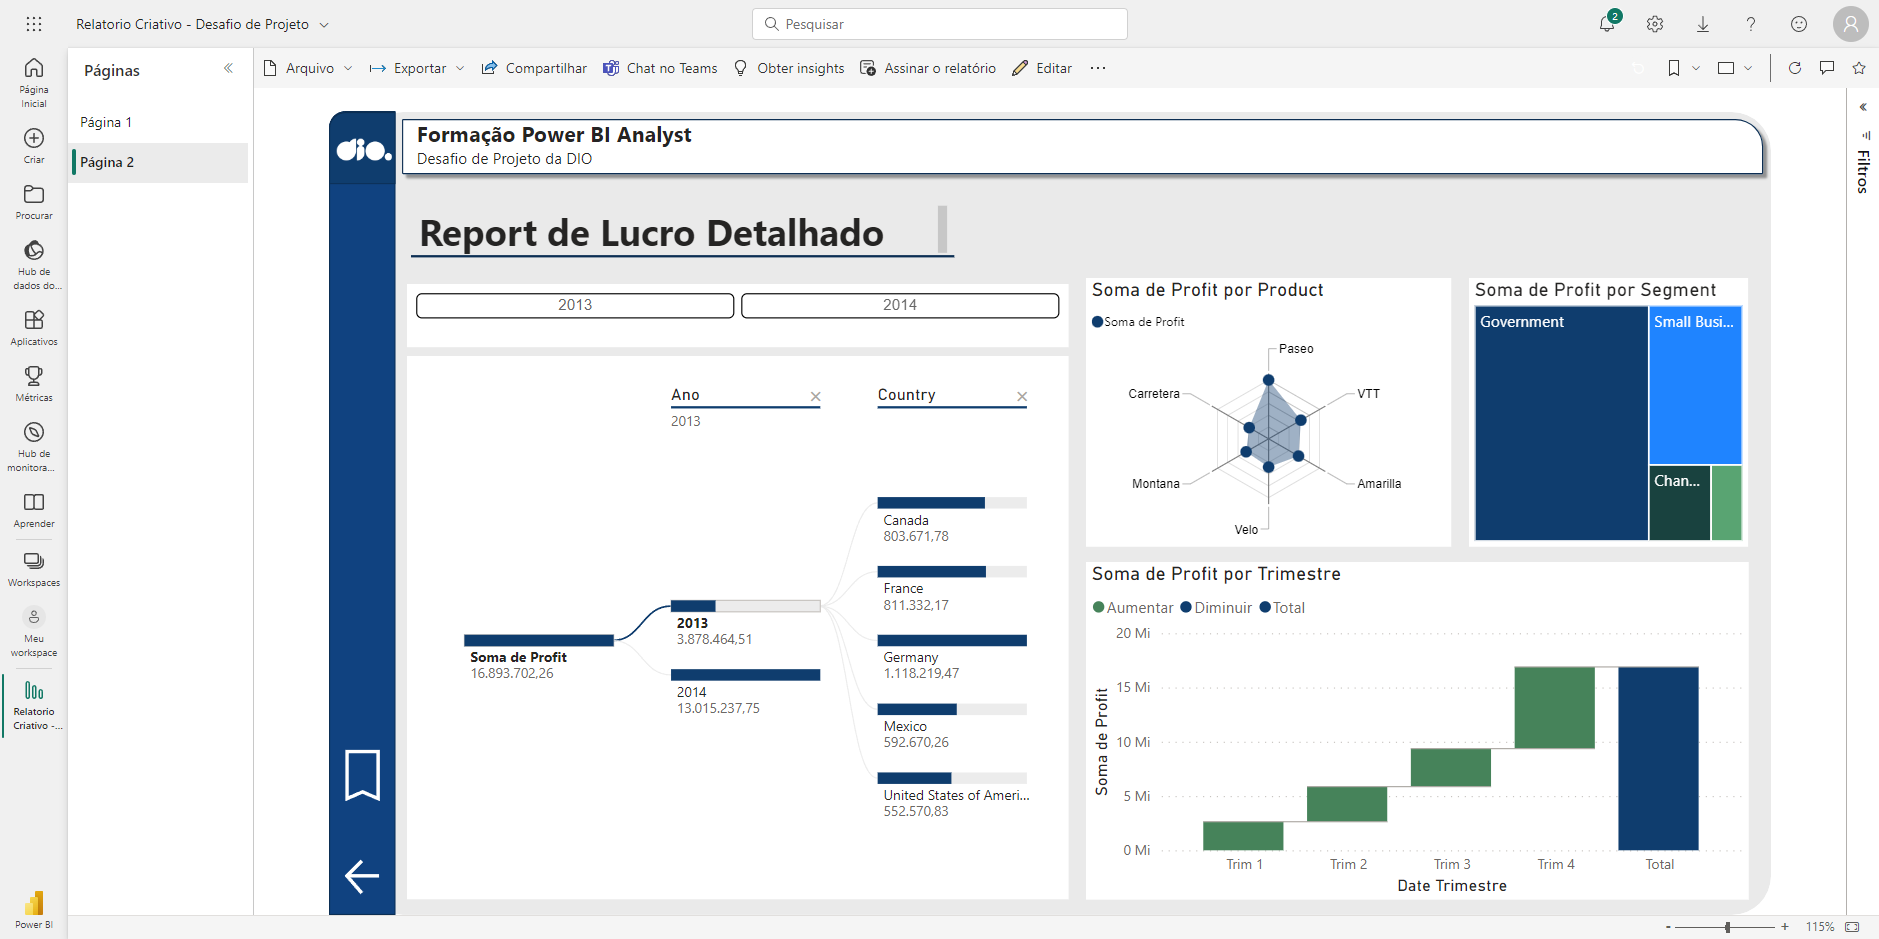

The page's visual inventory and layout, read from the dashboard file:
{"tool":"powerbi","page":{"name":"Página 2","canvas":[1280,720],"ordinal":1},"visuals":[{"type":"shape","box":[42.6,20.7,1225.3,699.3],"z":0},{"type":"shape","box":[83.9,127.8,473,37.1],"z":0,"group":"g1"},{"type":"textbox","box":[85.3,97.6,470.2,52.2],"z":1000,"group":"g1"},{"type":"shape","box":[12.4,20.2,57.7,699.8],"z":1000},{"type":"shape","box":[12.4,20.6,57.7,63.2],"z":2000},{"type":"image","box":[13.7,33,57.7,39.9],"z":3000},{"type":"shape","title":"Fundo do Título","box":[69.2,20.4,1198.8,62.1],"z":4000},{"type":"textbox","title":"Título do report","box":[83.9,22,378.1,63.2],"z":5000},{"type":"shape","box":[79.7,233.7,576.1,473],"z":6000},{"type":"decompositionTreeVisual","fields":{"Analyze":["Sum(financials.Profit)"],"ExplainBy":["financials.Date.Variation.Hierarquia de datas.Ano","financials.Country"]},"box":[99.8,242.2,536.3,456.5],"z":7000},{"type":"waterfallChart","fields":{"Category":["financials.Date.Variation.Hierarquia de datas.Trimestre"],"Y":["Sum(financials.Profit)"]},"box":[670.9,412.5,577.4,294.2],"z":8000},{"type":"ChicletSlicer1448559807354","fields":{"Category":["financials.Date.Variation.Hierarquia de datas.Ano"]},"box":[79.8,170.2,576.4,55],"z":9000},{"type":"RadarChart1446119667547","fields":{"Category":["financials.Product"],"Y":["Sum(financials.Profit)"]},"box":[670.9,165,317.6,233.7],"z":10000},{"type":"treemap","fields":{"Values":["Sum(financials.Profit)"],"Group":["financials.Segment"]},"box":[1005,165,243.4,233.7],"z":11000},{"type":"actionButton","box":[22,666.8,48.1,39.9],"z":12000},{"type":"group","id":"g1","title":"Sales report","box":[83.9,97.6,473,67.4],"z":13000},{"type":"actionButton","box":[12.8,545.8,57,105.5],"z":14000}]}

Visuals, with their boxes on the page's 1280x720 design canvas (x1, y1, x2, y2). These are canvas units, not pixel positions in the 1879x939 screenshot, which may show the page scaled, cropped or inside an application window:
shape: <box>43,21,1268,720</box>
shape: <box>84,128,557,165</box>
textbox: <box>85,98,556,150</box>
shape: <box>12,20,70,720</box>
shape: <box>12,21,70,84</box>
image: <box>14,33,71,73</box>
"Fundo do Título" shape: <box>69,20,1268,82</box>
"Título do report" textbox: <box>84,22,462,85</box>
shape: <box>80,234,656,707</box>
decompositionTreeVisual - Sum(financials.Profit) x financials.Date.Variation.Hierarquia de datas.Ano: <box>100,242,636,699</box>
waterfallChart - financials.Date.Variation.Hierarquia de datas.Trimestre x Sum(financials.Profit): <box>671,412,1248,707</box>
ChicletSlicer1448559807354 - financials.Date.Variation.Hierarquia de datas.Ano: <box>80,170,656,225</box>
RadarChart1446119667547 - financials.Product x Sum(financials.Profit): <box>671,165,988,399</box>
treemap - Sum(financials.Profit) x financials.Segment: <box>1005,165,1248,399</box>
actionButton: <box>22,667,70,707</box>
"Sales report" group: <box>84,98,557,165</box>
actionButton: <box>13,546,70,651</box>
